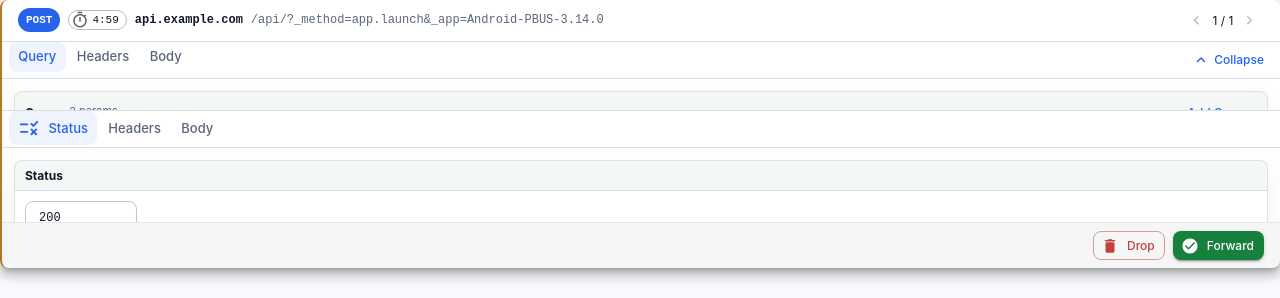
Scenario: BreakpointInterceptPanel › uses unique aria-labelledby ids when both headers editors are visible
What coordinates should you click on to do the following:
click the 1st tab "Headers"
I would click on:
 (103, 57)
Its box is [68,42,138,72].
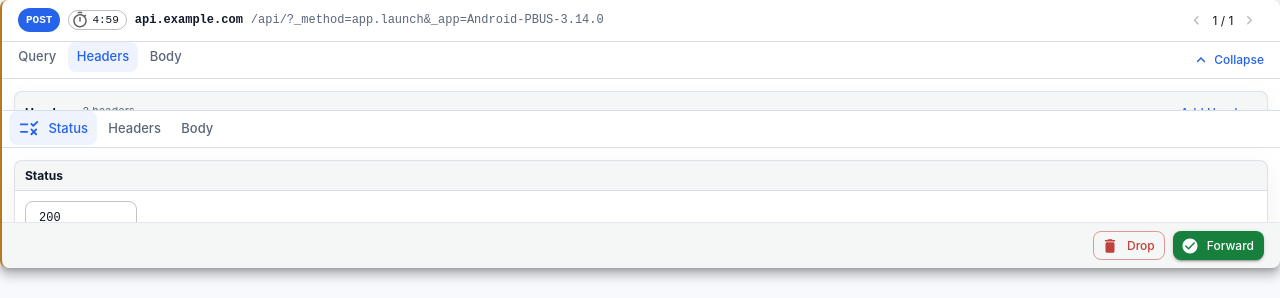
What coordinates should you click on to do the following:
click the 2nd tab "Headers"
I would click on:
 (135, 128)
Its box is [99,111,170,145].
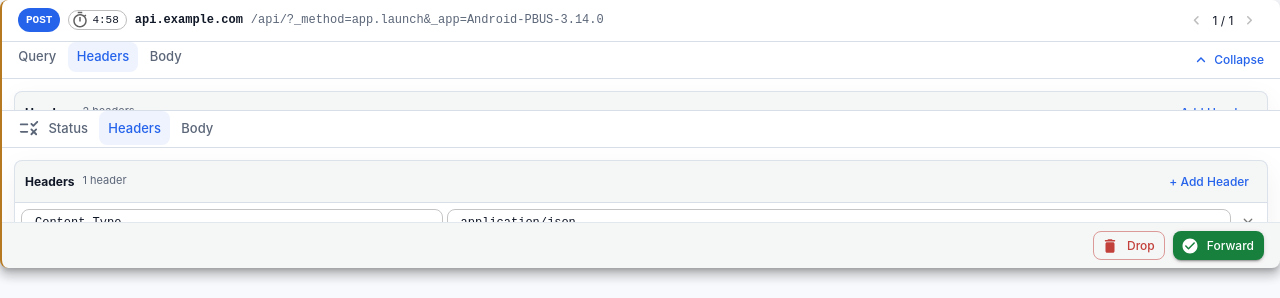
Check: the text "Headers" is shown, box [25,173,74,190]
